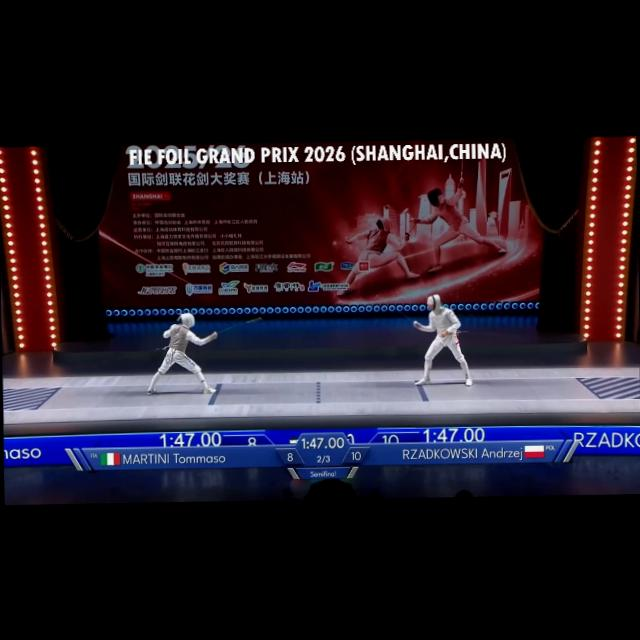blade: (372, 292, 418, 329), (208, 314, 264, 339)
